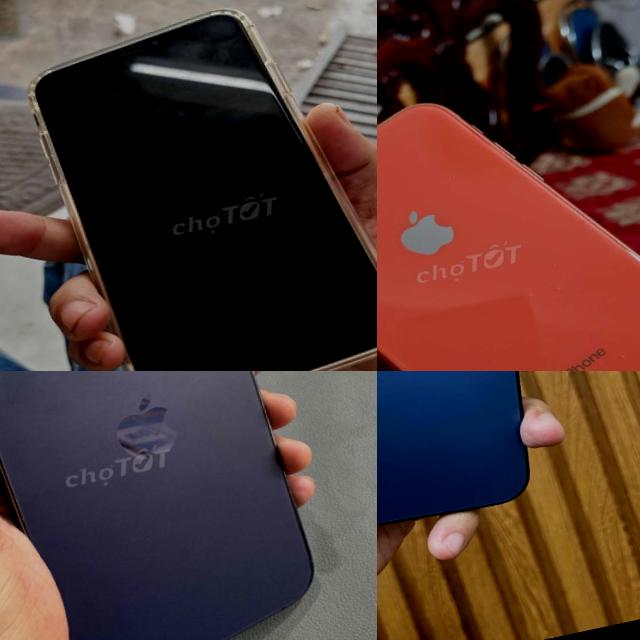gen_12_13: (377, 371, 565, 547)
gen_14: (0, 371, 357, 640)
gen_x_xs: (0, 0, 377, 371), (377, 31, 640, 371)
